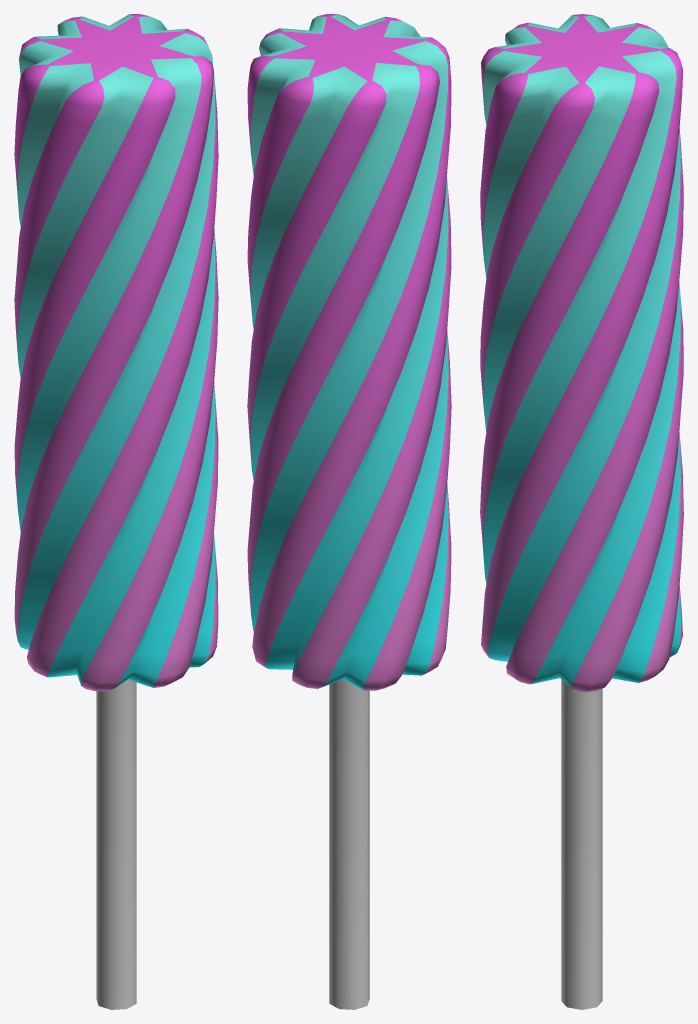
File: ice_cream_001.glb
3 views of the same model, side by side, from view 1: azimuth 30°, elevation 25°; view 2: azimuth 150°, elevation 25°; view 3: azimuth 270°, elevation 25° (orthographic).
Visible parts, largest first — view 1: ice_cream_001; view 2: ice_cream_001; view 3: ice_cream_001.
Boxes of the visible parts, x1,y1,x2,y2 form: ice_cream_001: (14,14,218,1009); ice_cream_001: (247,14,451,1009); ice_cream_001: (480,14,683,1009).
Bounding box in the file's own units: 1.43 × 7.37 × 1.43.
1 material, 1 textured.
